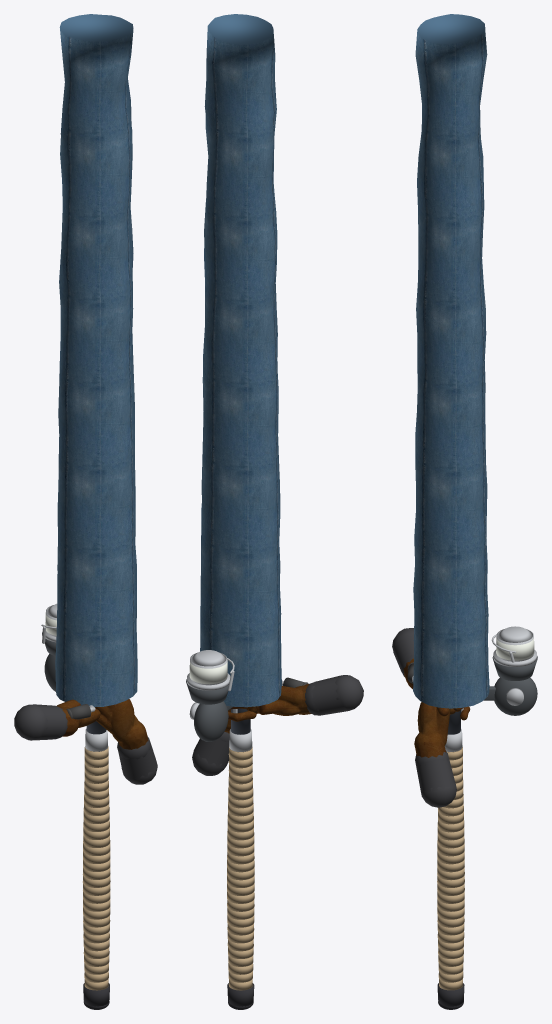
File: rod.glb
3 views of the same model, side by side, from view 1: azimuth 30°, elevation 25°; view 2: azimuth 150°, elevation 25°; view 3: azimuth 270°, elevation 25° (orthographic).
Visible parts, largest first — view 1: sleeve, handle, hand_r, hand_l, reel; view 2: sleeve, handle, reel, hand_l, hand_r; view 3: sleeve, handle, reel, hand_r, hand_l.
Boxes of the visible parts, x1,y1,x2,y2 form: sleeve: [55, 14, 137, 707]; handle: [82, 721, 110, 1009]; hand_r: [95, 699, 157, 784]; hand_l: [14, 699, 100, 740]; reel: [41, 603, 57, 691]; sleeve: [200, 14, 281, 707]; handle: [227, 708, 254, 1009]; reel: [186, 650, 237, 741]; hand_l: [246, 675, 363, 715]; hand_r: [192, 706, 256, 775]; sleeve: [413, 14, 489, 708]; handle: [437, 710, 464, 1009]; reel: [461, 626, 537, 715]; hand_r: [414, 702, 470, 807]; hand_l: [392, 628, 455, 716].
Size of the model in its own units: 0.2422 by 1.48 by 0.1997.
12 materials, 2 textured.
